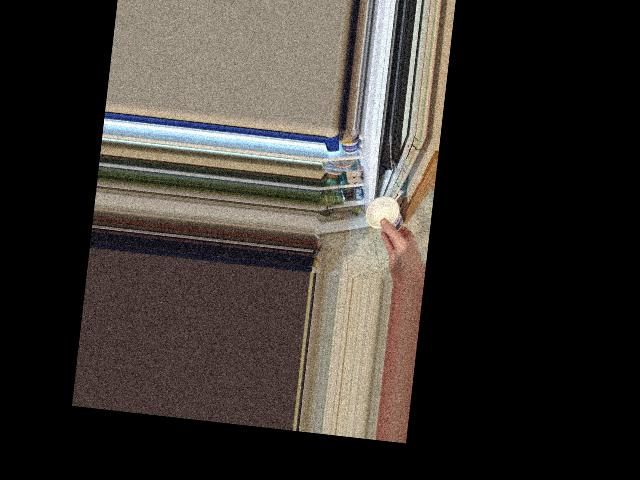cotage: (363, 191, 408, 235)
